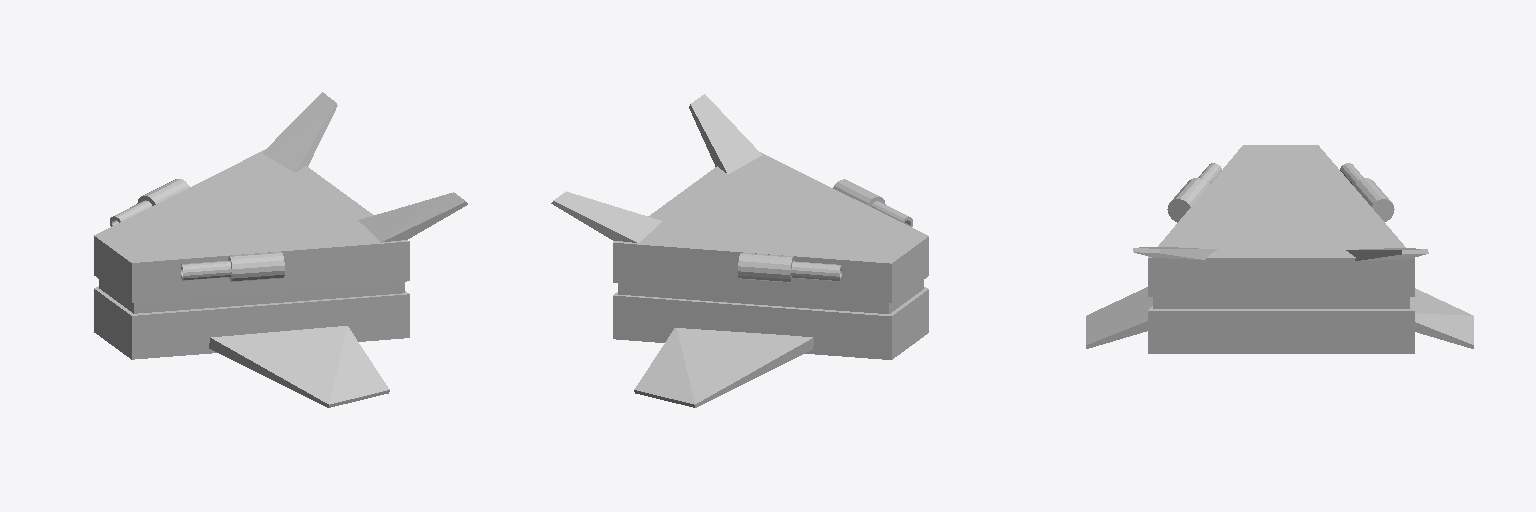
The model's file is Sentry2.obj.
3 views of the same model, side by side, from view 1: azimuth 30°, elevation 25°; view 2: azimuth 150°, elevation 25°; view 3: azimuth 270°, elevation 25° (orthographic).
Parts seen in each view (by area): view 1: Body_Cube.000; view 2: Body_Cube.000; view 3: Body_Cube.000.
Boxes of the visible parts, <box> form: Body_Cube.000: <box>94,92,467,407</box>; Body_Cube.000: <box>551,94,928,407</box>; Body_Cube.000: <box>1086,145,1473,353</box>.
Size of the model in its own units: 0.6467 by 0.3264 by 0.7619.